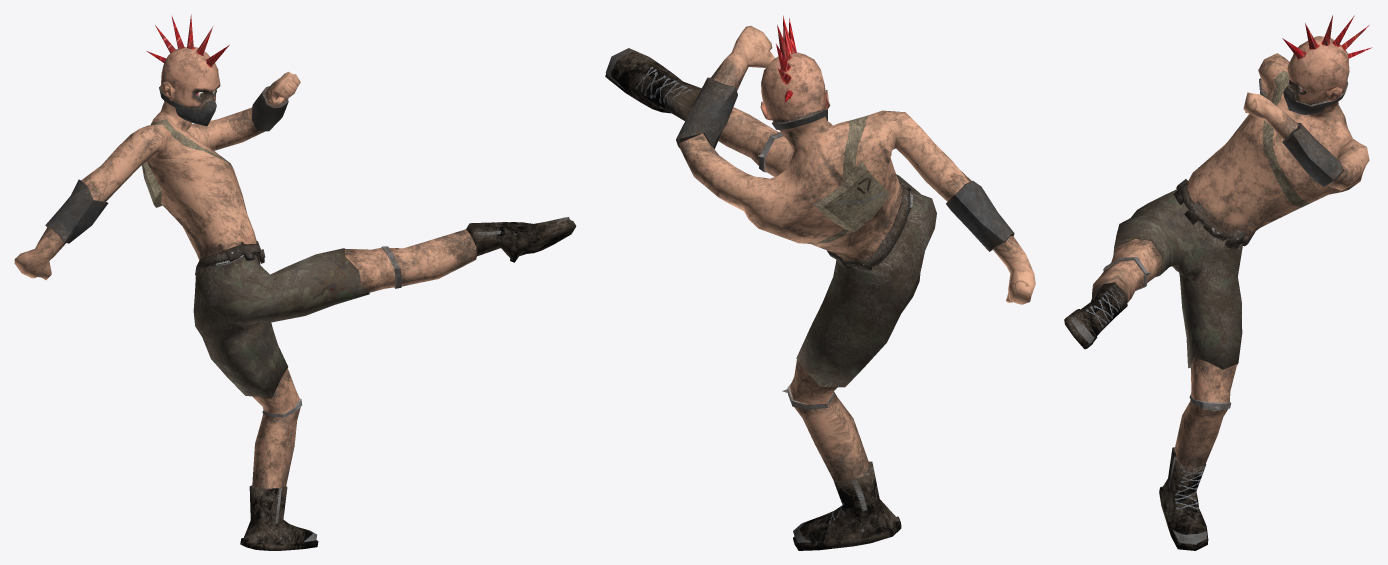
Rendered from Anim_ataque_f1_npc2.0021.obj.
The picture shows the model from 3 angles, left to right: view 1: azimuth 30°, elevation 25°; view 2: azimuth 150°, elevation 25°; view 3: azimuth 270°, elevation 25°; orthographic projection. The views are drawn at different scales.
Visible parts, largest first — view 1: polySurface1; view 2: polySurface1; view 3: polySurface1.
Boxes of the visible parts, <box> form: polySurface1: <box>14,14,576,550</box>; polySurface1: <box>605,15,1035,550</box>; polySurface1: <box>1064,15,1372,550</box>.
Bounding box in the file's own units: 9 × 9.32 × 5.12.
